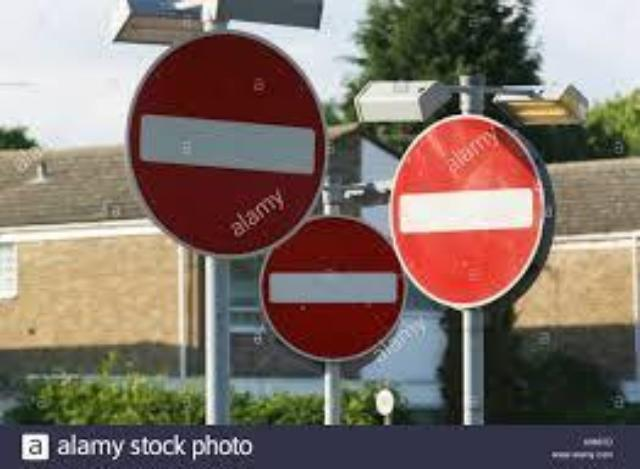B2: (125, 32, 328, 254), (394, 119, 542, 305), (262, 217, 404, 359)
